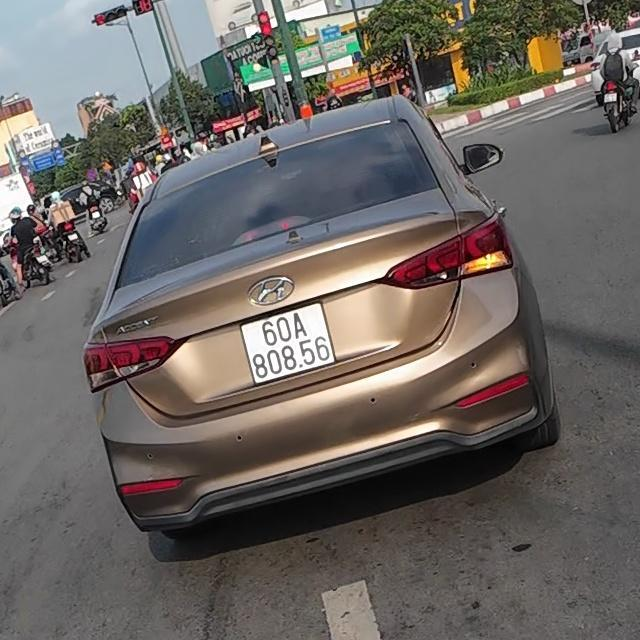car: (85, 88, 580, 567)
motorcycle: (594, 71, 638, 142), (16, 242, 59, 290), (54, 222, 94, 264)
plate: (231, 300, 345, 386)
